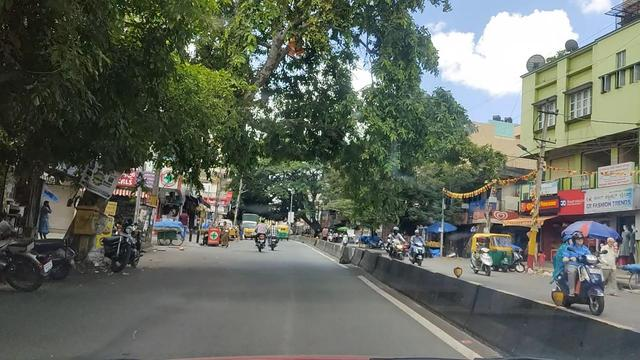RoadDamages: (124, 319, 142, 344)
